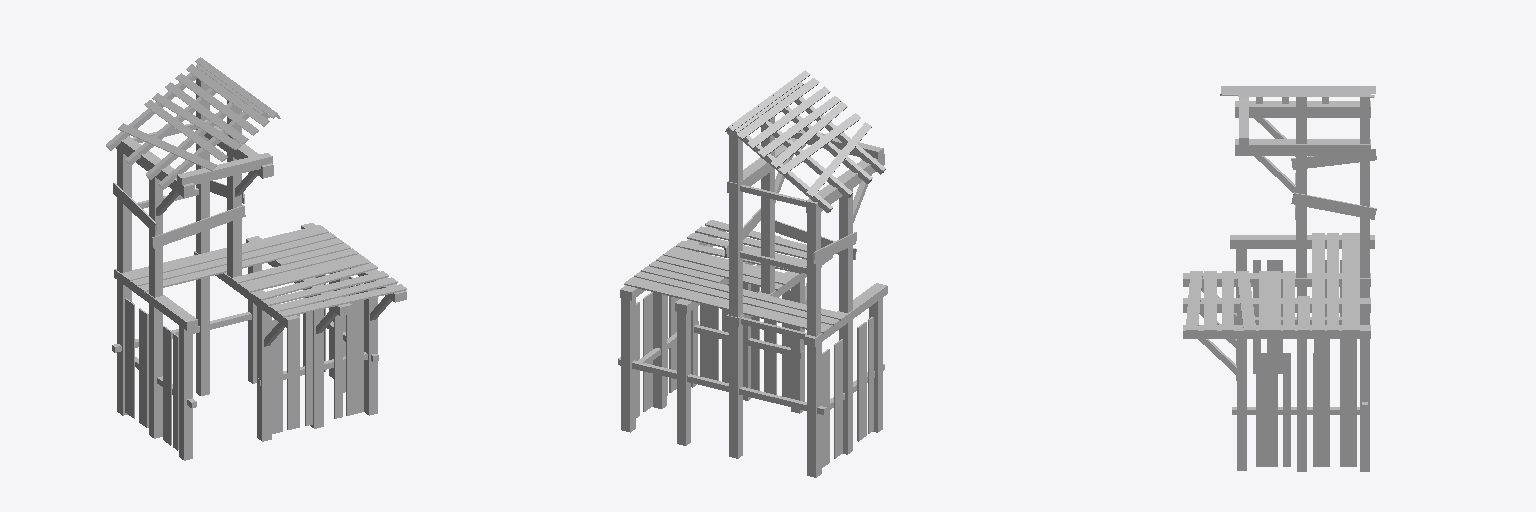
The model's file is BG_MiningScaffold.obj.
The picture shows the model from 3 angles: view 1: azimuth 30°, elevation 25°; view 2: azimuth 150°, elevation 25°; view 3: azimuth 270°, elevation 25°; orthographic projection.
Visible parts, largest first — view 1: Mine_Construction; view 2: Mine_Construction; view 3: Mine_Construction.
Boxes of the visible parts, x1=… form: Mine_Construction: x1=106, y1=57, x2=406, y2=460; Mine_Construction: x1=618, y1=70, x2=887, y2=477; Mine_Construction: x1=1183, y1=86, x2=1376, y2=471.
Bounding box in the file's own units: 85.66 × 128 × 67.65.